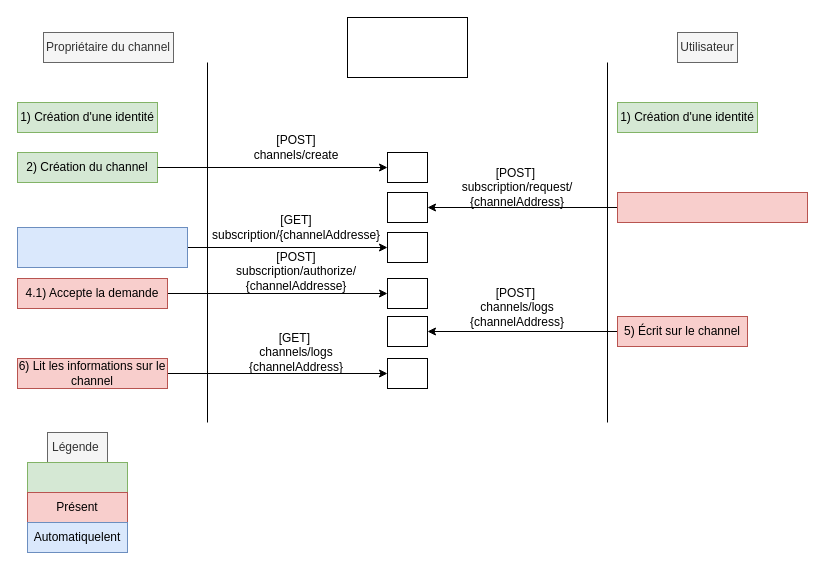
Some shapes in this 825 by 570 pixel diagram are drawn without their labels. Each missing label, with the centre of its shape:
"3) Demande à rejoindre le channel" belongs at point (712, 207).
"4) Affiche l'ensemble des demandes pour rejoindre le channel" belongs at point (102, 247).
"Antérieurement" belongs at point (77, 477).
"Serveur API" belongs at point (407, 47).
